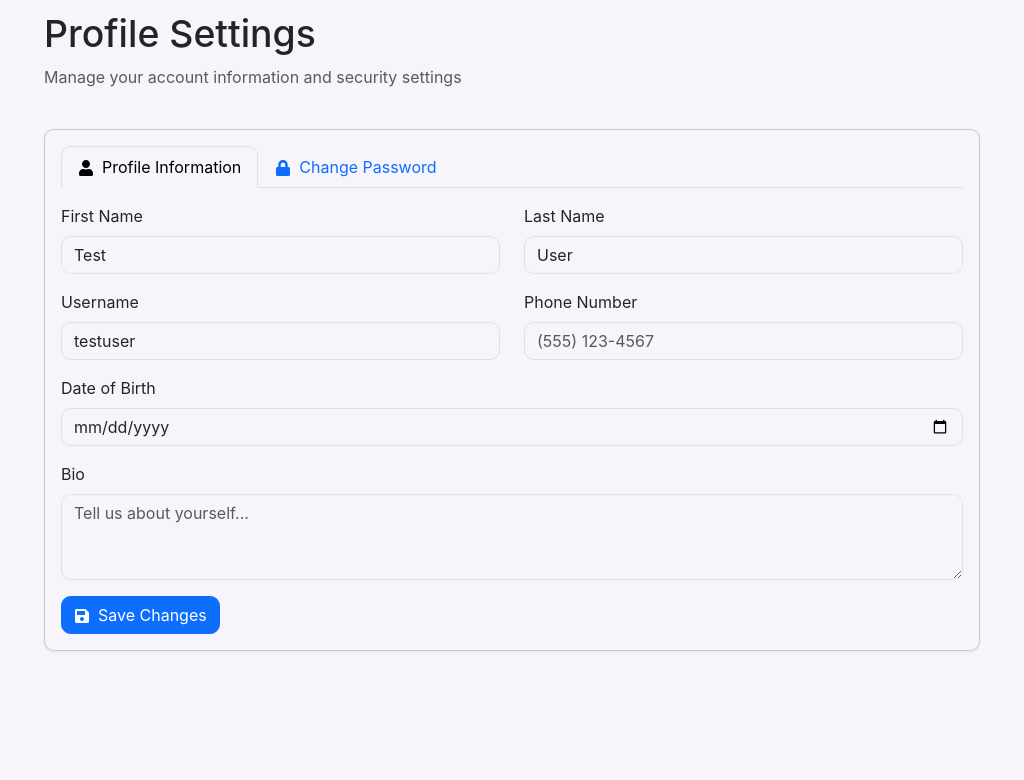
Test case: Profile › shows the backend's specific field error instead of a generic message
This screenshot has width=1024, height=780.
Click the button "Save Changes": (140, 615) [61,596,220,634]
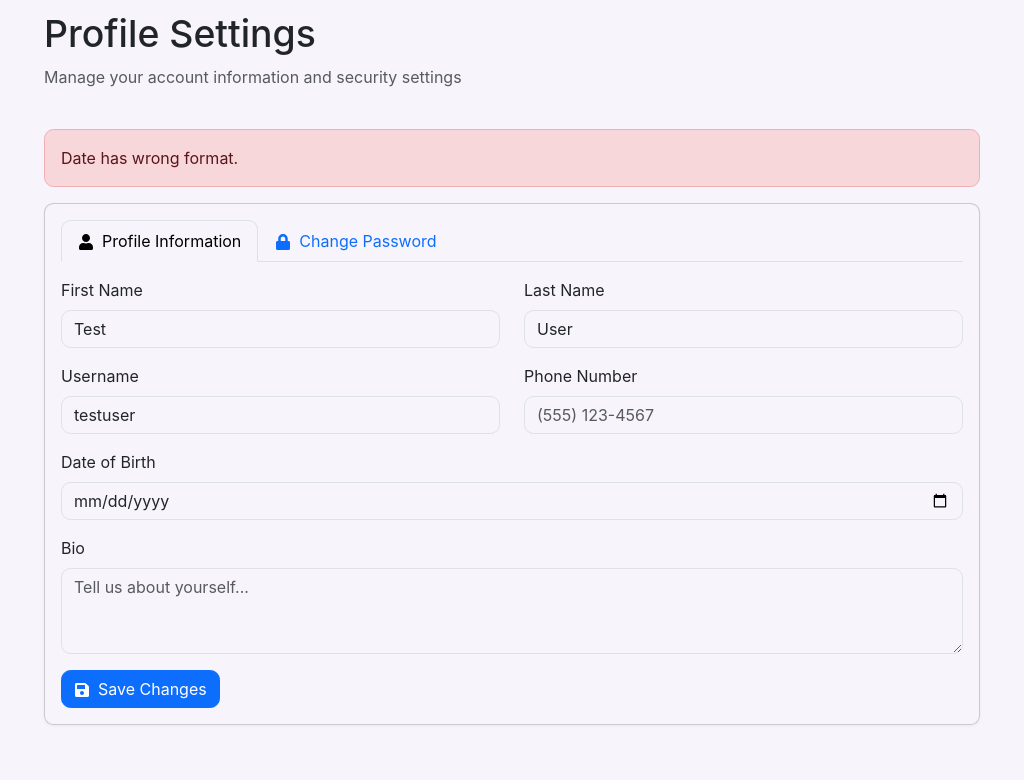
Now the text "Date has wrong format." is shown, box [44,129,980,187]
